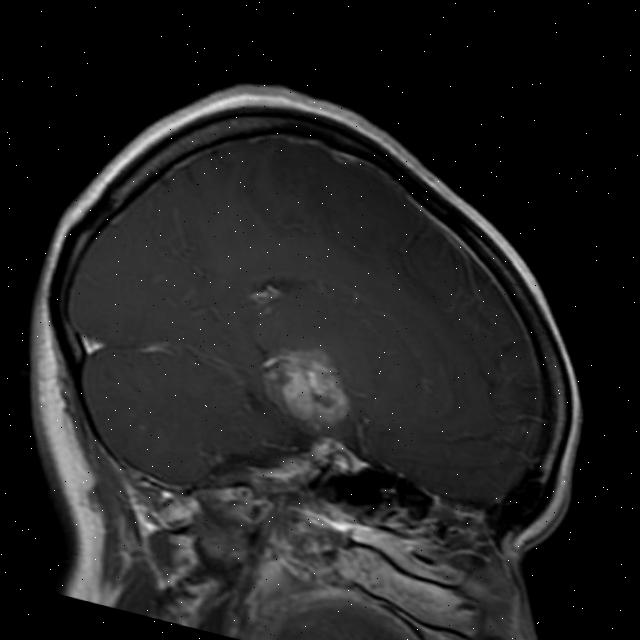Glioma: (251, 335, 362, 437)
